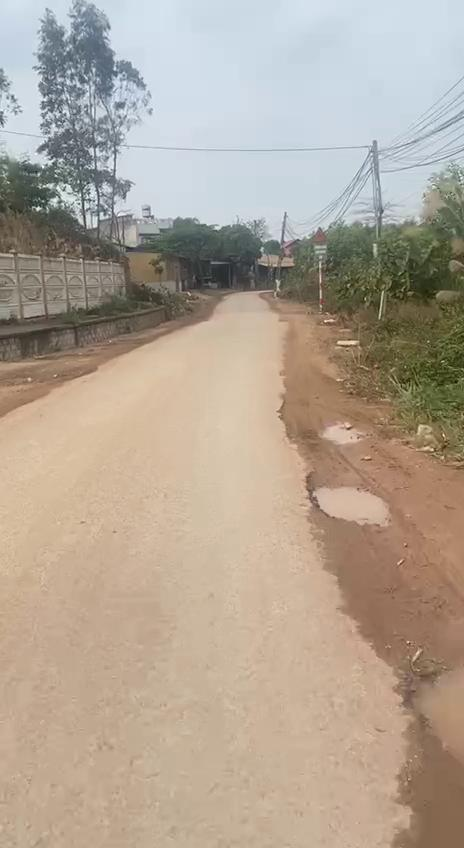pothole: (398, 646, 464, 767), (300, 466, 401, 537), (284, 397, 360, 450)
